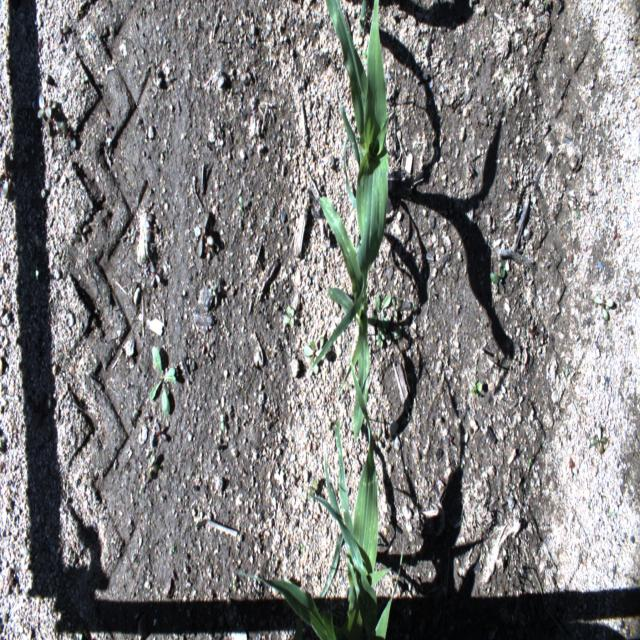crop: (231, 367, 403, 637), (308, 0, 389, 437)
weed: (145, 348, 178, 421), (184, 206, 220, 260), (31, 86, 58, 142), (140, 410, 174, 447), (391, 289, 412, 344), (482, 261, 509, 300), (68, 218, 99, 250), (468, 364, 492, 402), (594, 286, 616, 326), (368, 293, 390, 329), (53, 9, 75, 44), (588, 424, 610, 455), (61, 115, 78, 153), (1, 150, 12, 207), (572, 185, 586, 229), (3, 551, 14, 602), (144, 451, 160, 485), (356, 0, 368, 40), (284, 304, 298, 338), (232, 191, 248, 214), (611, 218, 624, 245), (217, 400, 226, 436), (376, 330, 384, 350)
